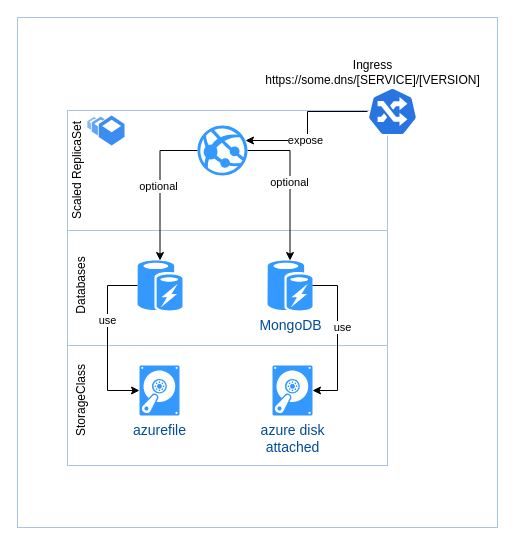
This 515x545 diagram has some shape labels left out. The shapes that lost their labels are listed below. From the top down, each one's centre as x and y in pixels, then its label:
pixel 222 150: Service
pixel 159 285: SQL Server
